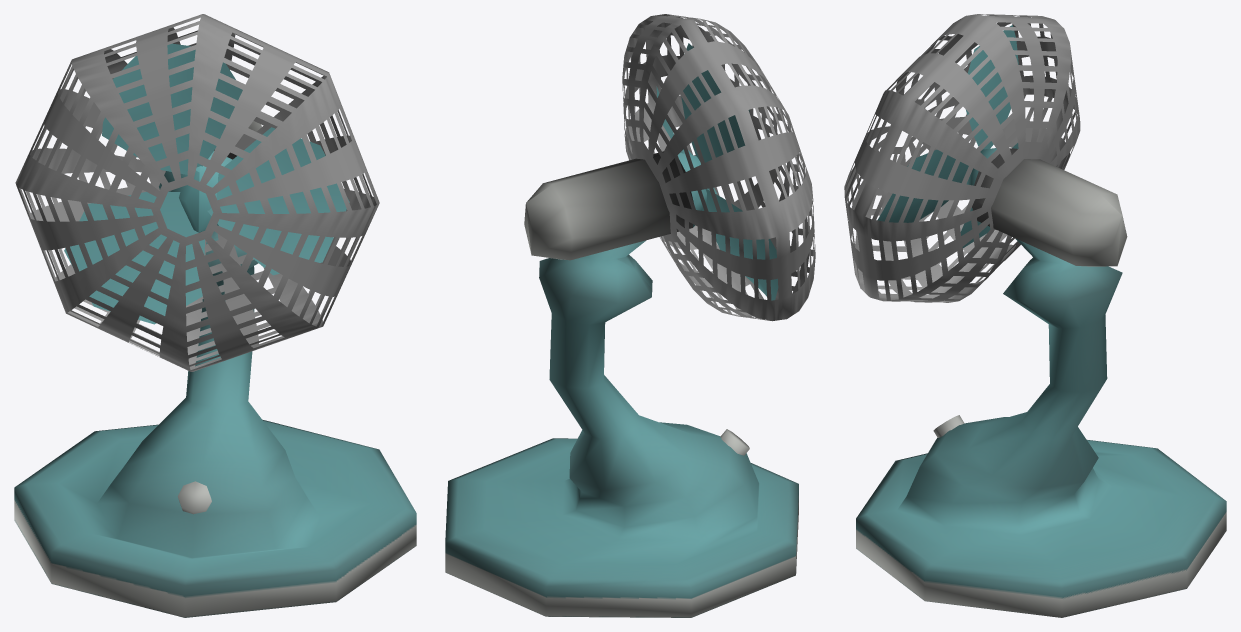
Rendered from Wind_Machine.glb.
3 renders of one model, left to right at view 1: azimuth 30°, elevation 25°; view 2: azimuth 150°, elevation 25°; view 3: azimuth 270°, elevation 25°, orthographic. The views are drawn at different scales.
Visible parts, largest first — view 1: Sphere.006; view 2: Sphere.006; view 3: Sphere.006.
Part boxes in pixels (x1=…): Sphere.006: x1=14, y1=14, x2=416, y2=617; Sphere.006: x1=445, y1=14, x2=815, y2=617; Sphere.006: x1=844, y1=14, x2=1226, y2=617.
Size of the model in its own units: 7.17 by 10.21 by 7.03.
Materials: 1 (1 with a texture image).
